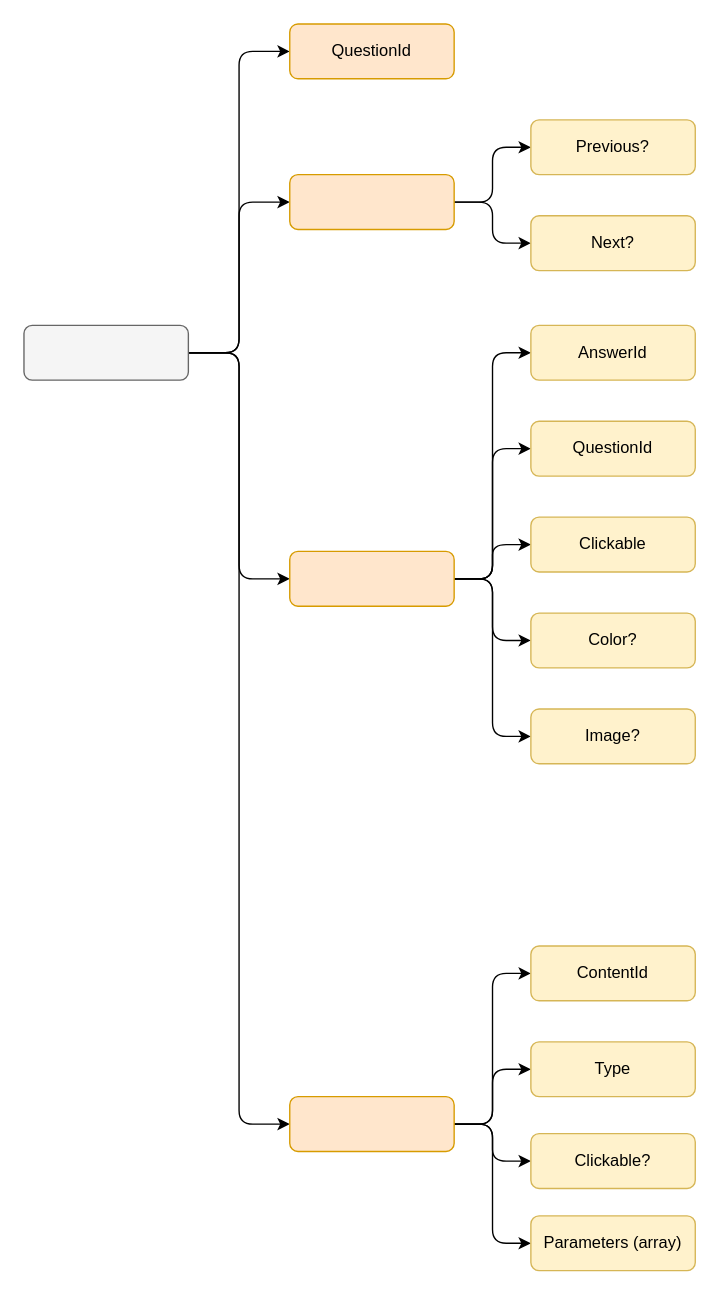
Image size: 719x1295. Some labels were removed from this diagram. The shapes that lost their labels are listed below. From the top down, each one's box as (x1, y1, x2, y2) in pixels, then its label:
(288, 173, 454, 229): Navigation
(23, 324, 188, 380): Question
(288, 550, 454, 606): Answers (array)
(288, 1095, 454, 1151): Content (array)
